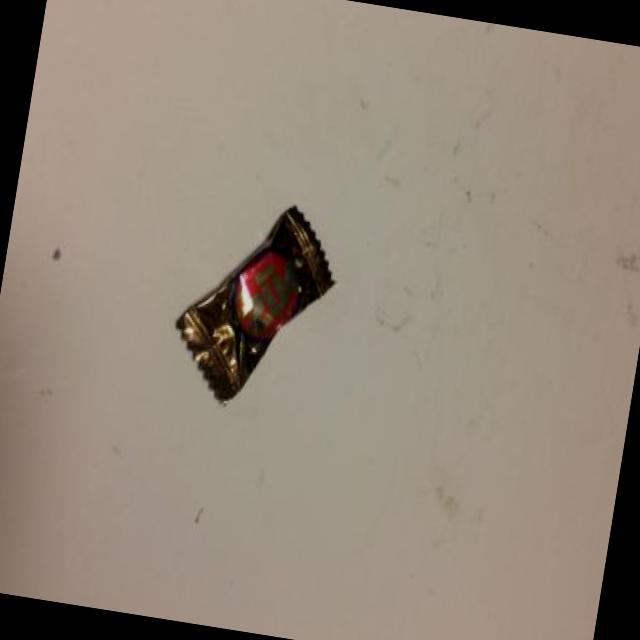bao_bi_thuc_pham: (174, 209, 333, 403)
